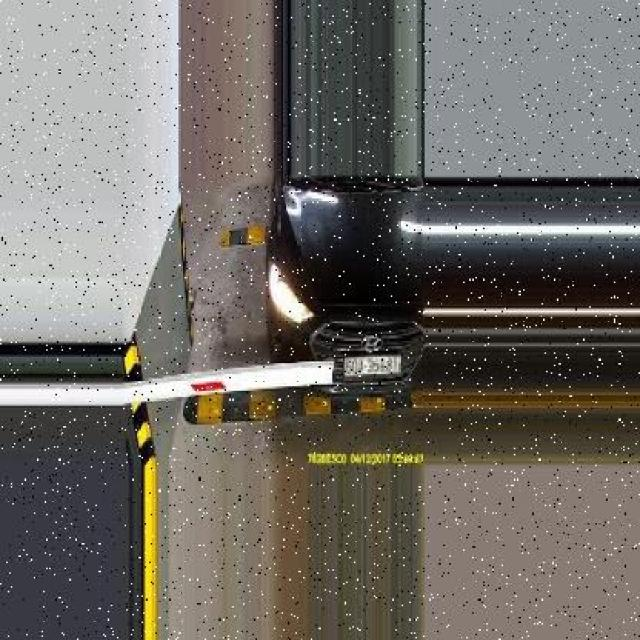number_plate: (343, 352, 403, 378)
